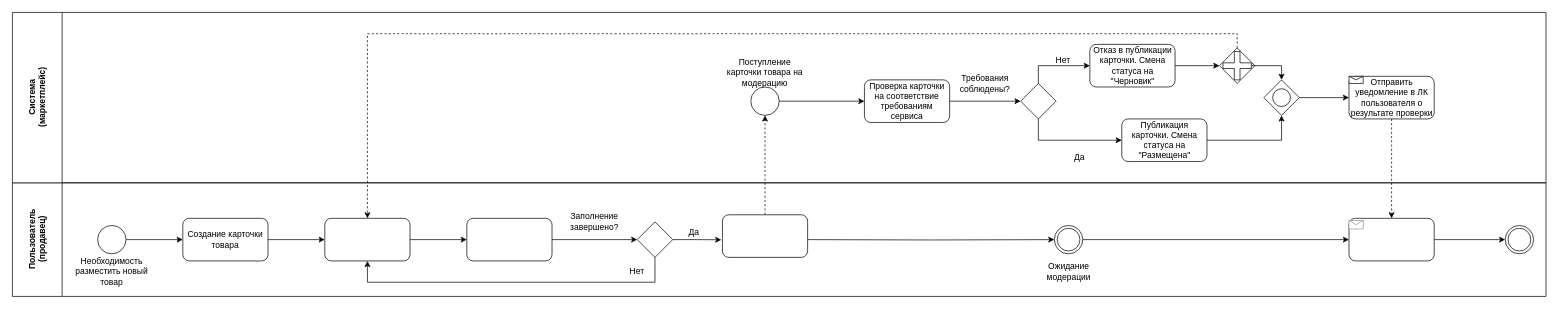
Some shapes in this 1558 by 309 pixel diagram are drawn without their labels. Here are the shapes that lost their labels. From the top down, the box of each, then its label:
(324, 218, 410, 261): Заполнение карточки товара. Статус карточки "Черновик"
(466, 218, 552, 261): Сохранить карточку товара.
(722, 214, 808, 257): Отправить карточку на модерацию. Статус карточки "На модерации"
(1348, 218, 1434, 261): Проверка уведомлений от системы
